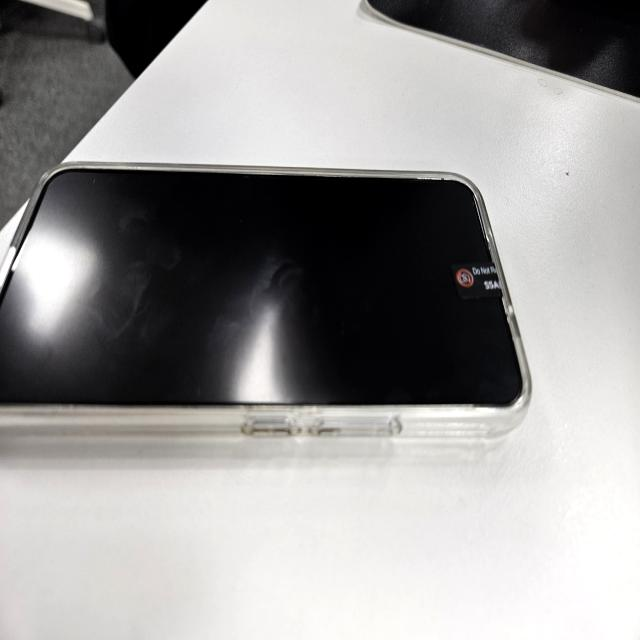phone: (0, 159, 534, 451)
sticker: (448, 262, 504, 302)
